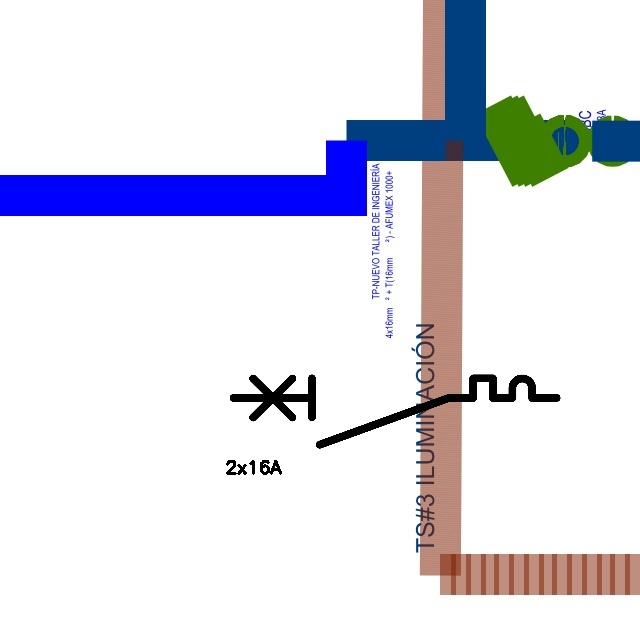interruptor_termomagnetico: (225, 370, 565, 453)
